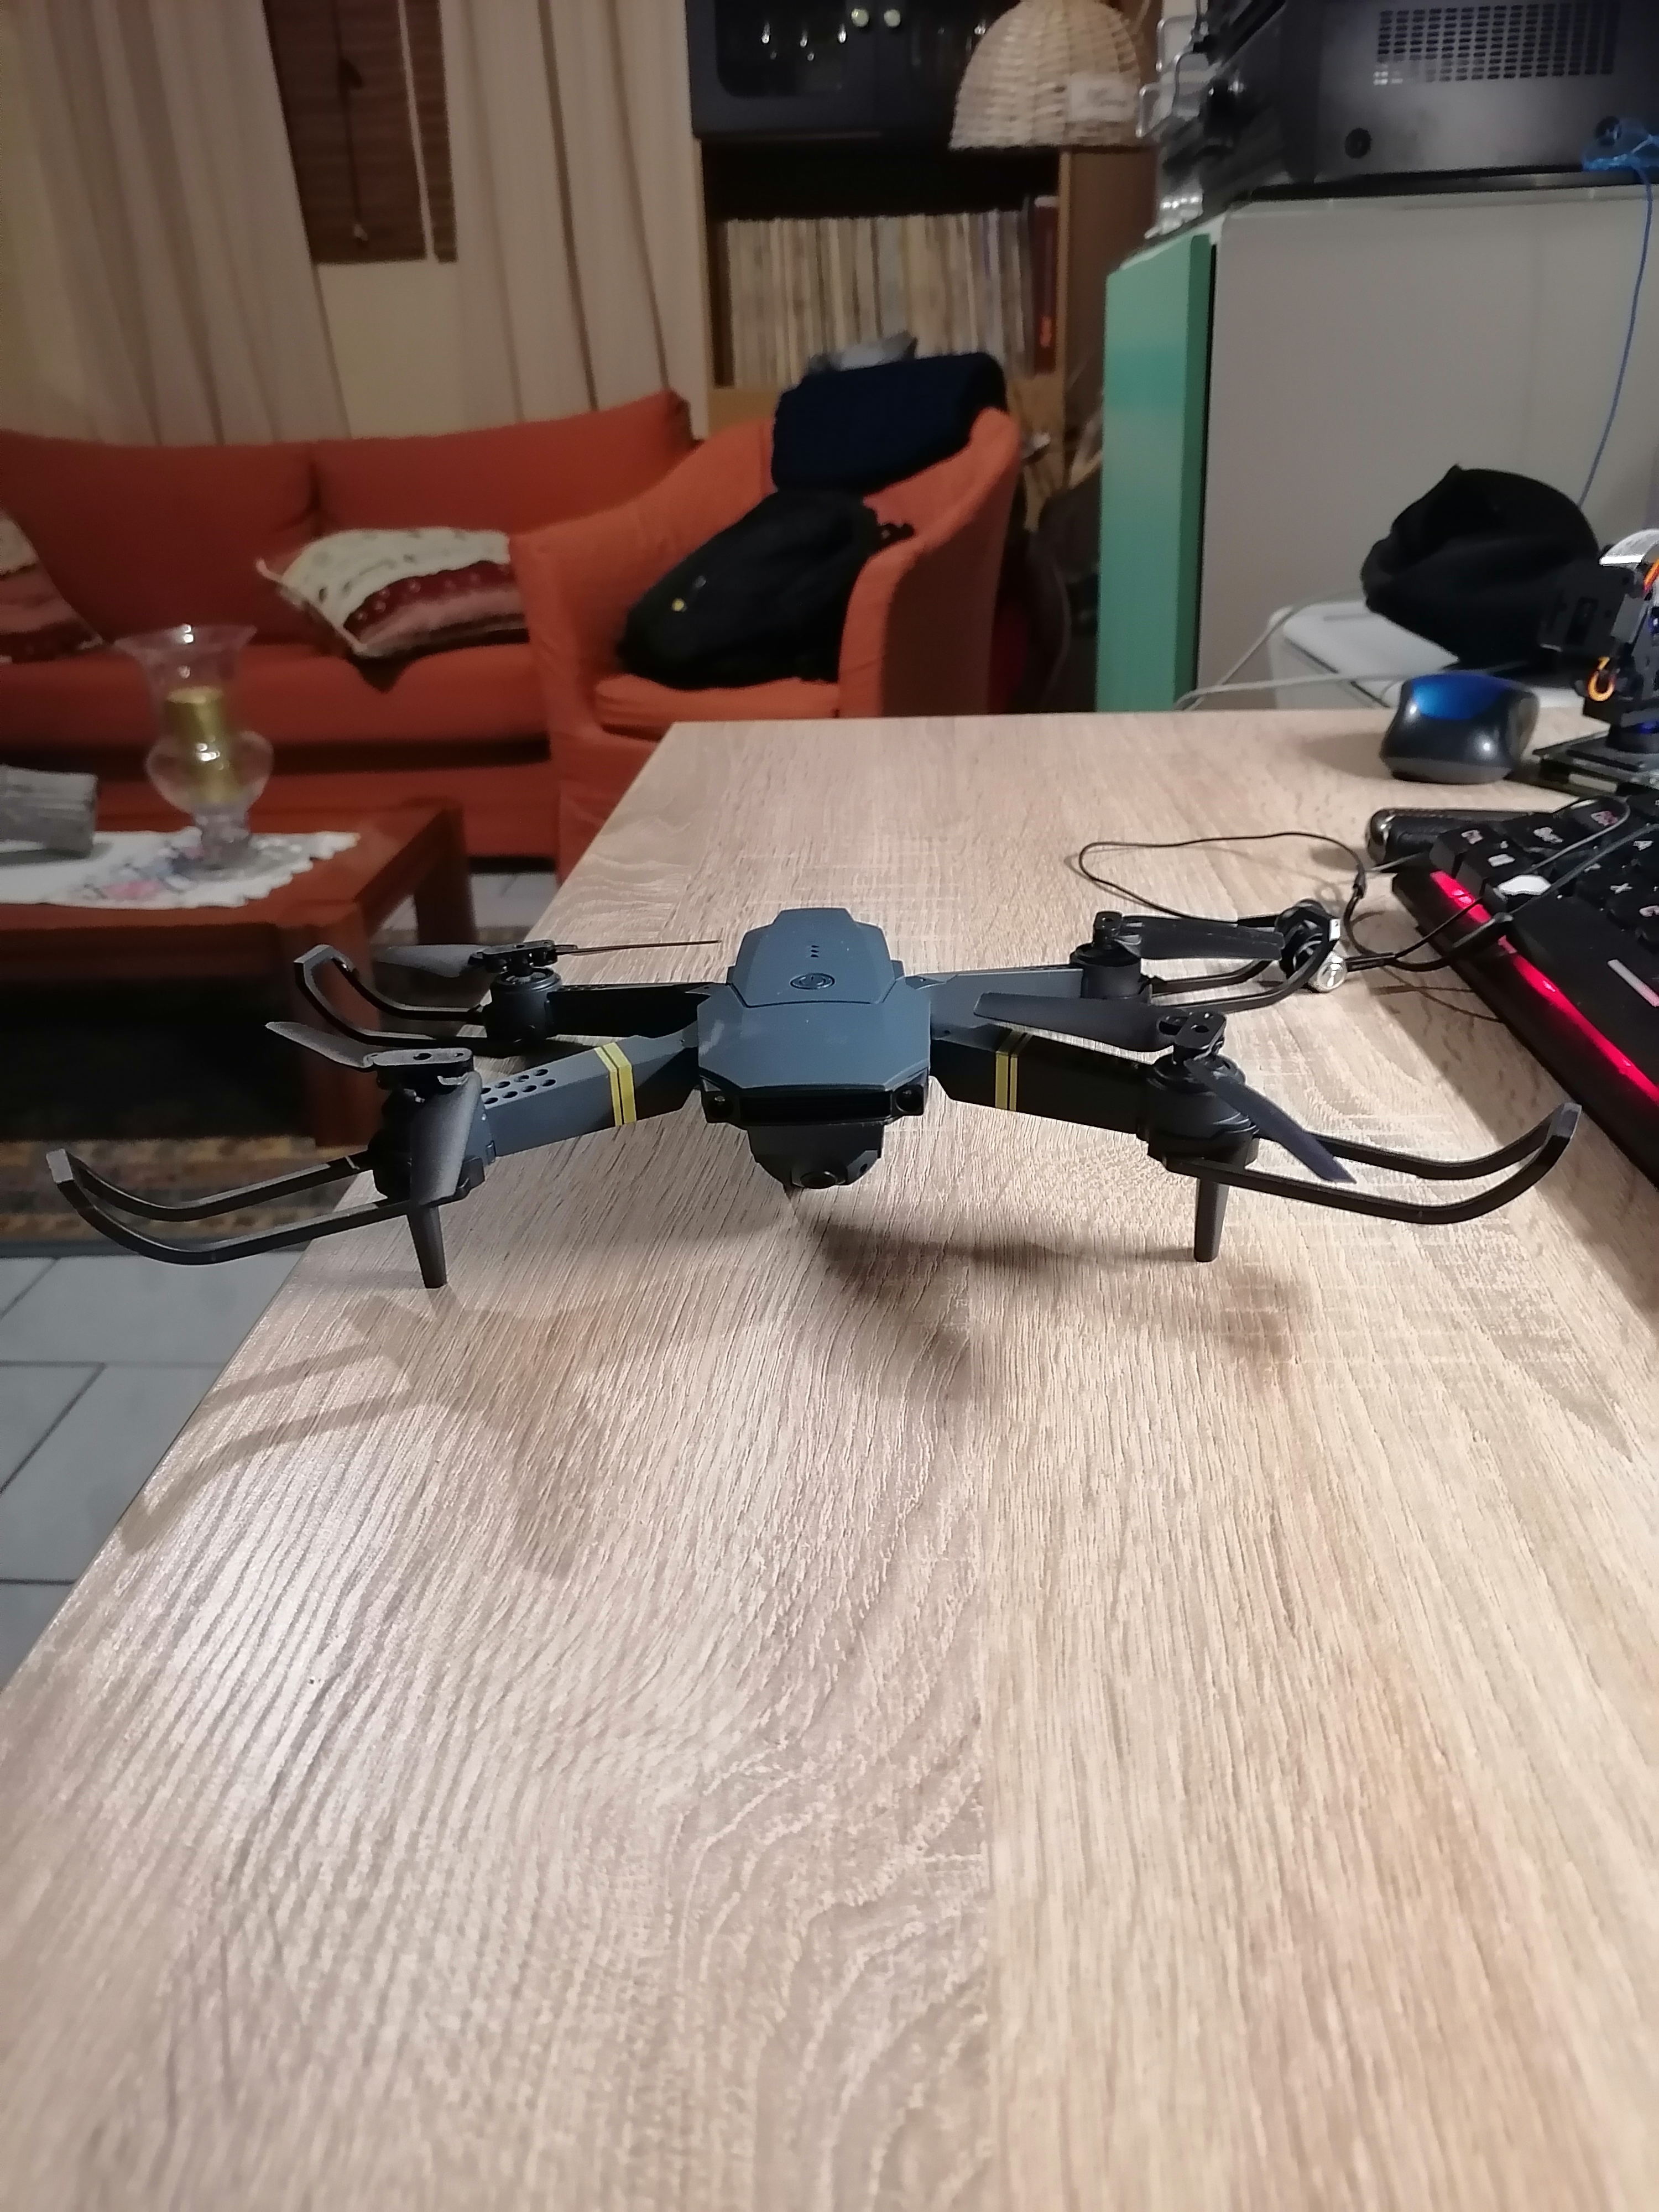drone: (40, 860, 1584, 1338)
